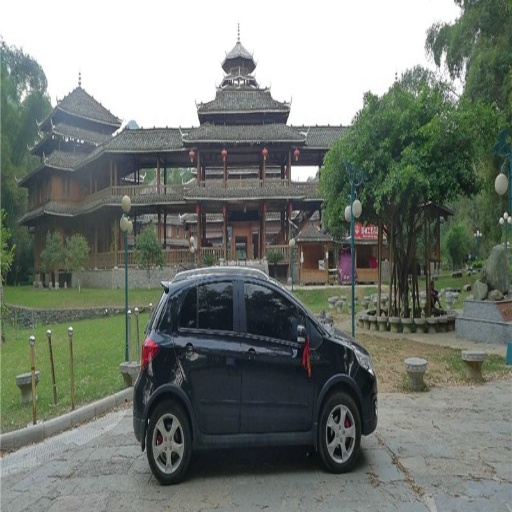back_right_door: (159, 272, 244, 436)
